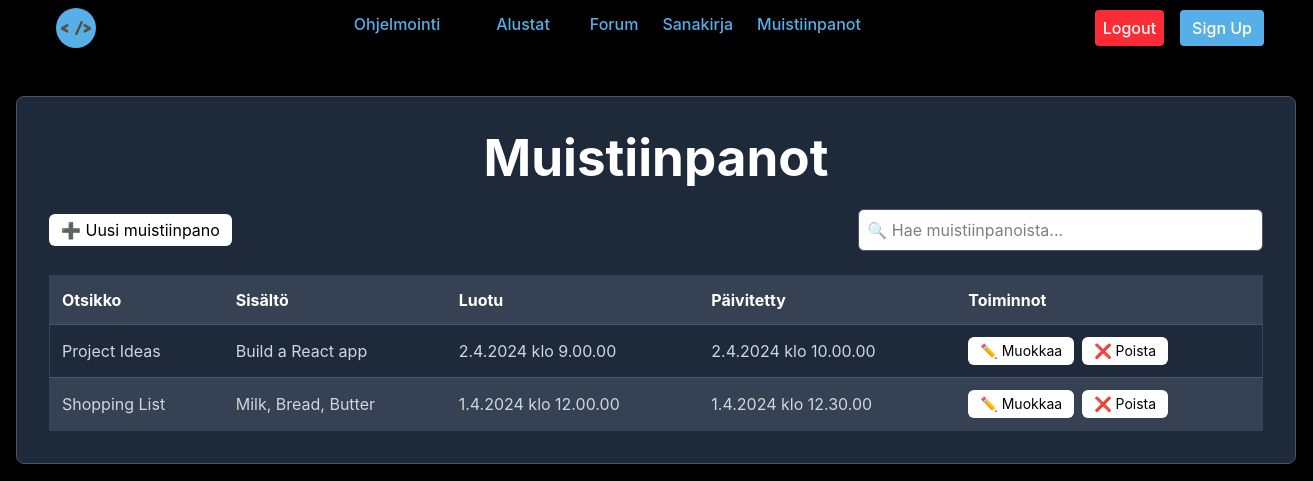
Notes Component › filters notes with search input
This screenshot has width=1313, height=481.
Check: the text "Shopping List" is shown, box [50,378,224,431]
Type "project" into the field with placeholder "🔍 Hae muistiinpanoista..." at (1061, 230), box [858,209,1263,251]
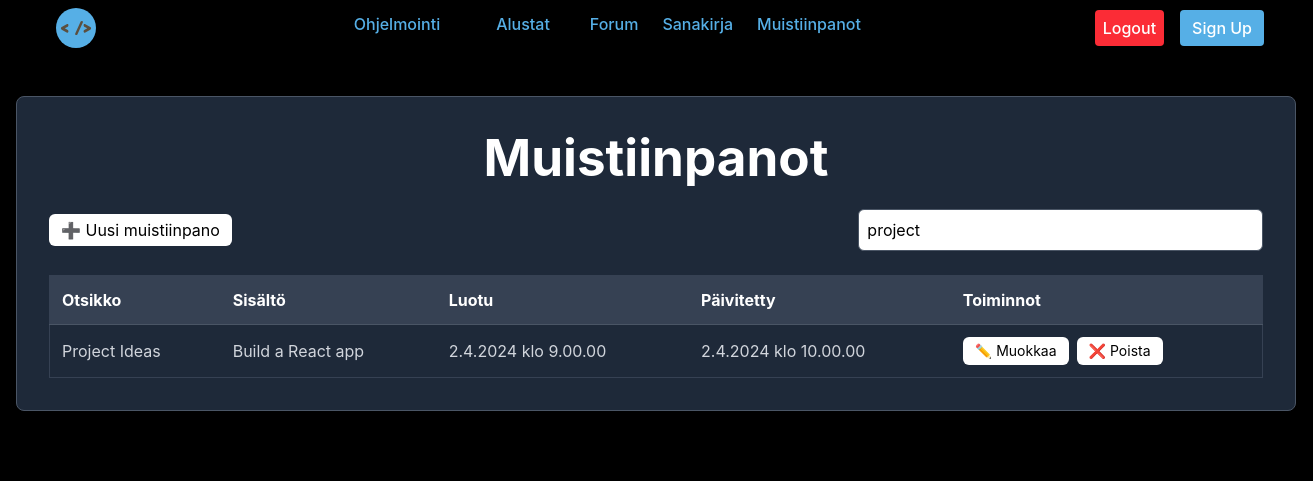
Check: the text "Project Ideas" is shown, box [50,325,221,378]
Check: the text "Shopping List" is gone
